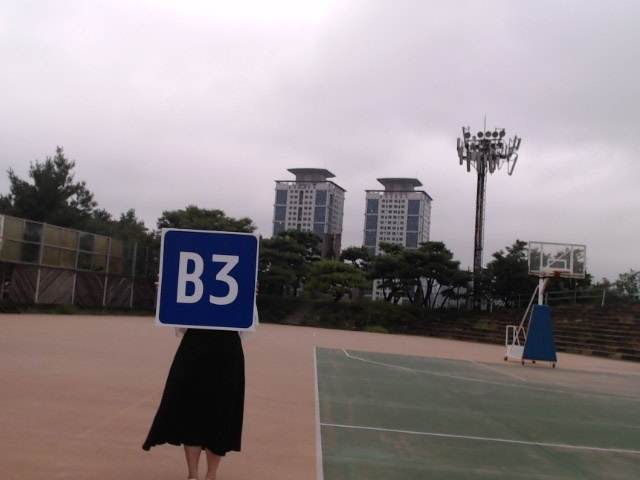delivery_b3: (157, 229, 258, 329)
